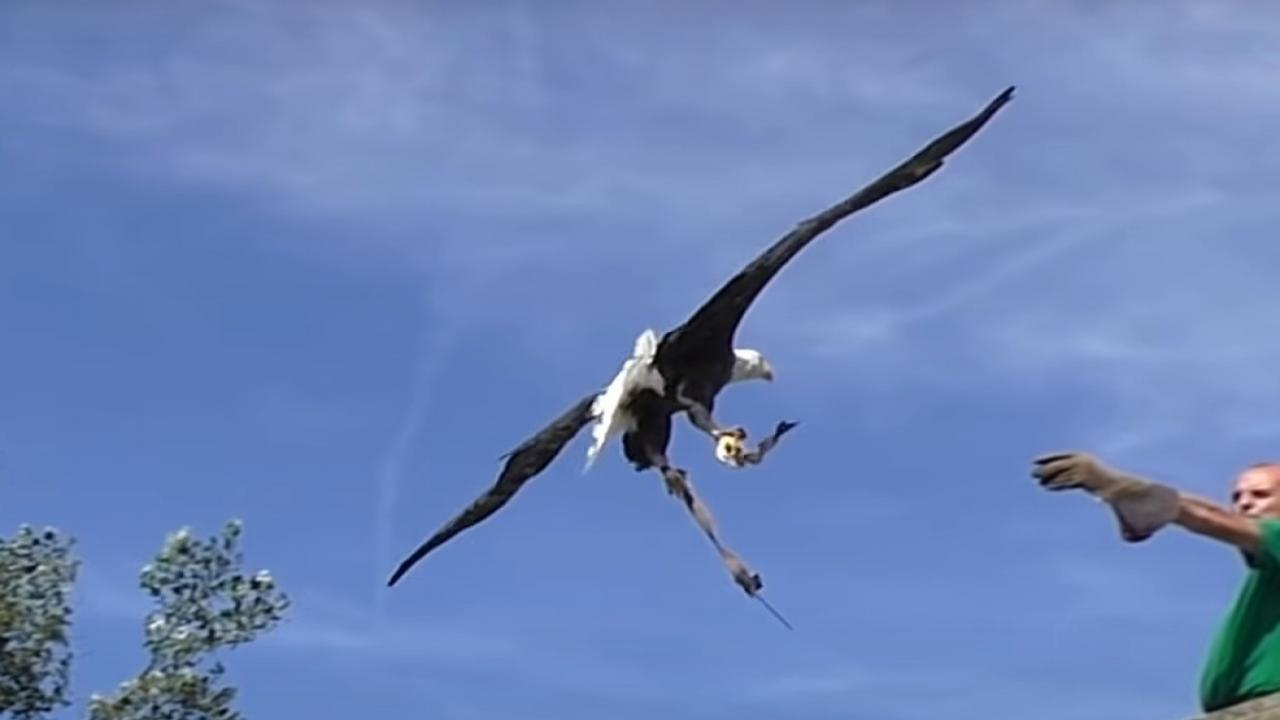Bird: (375, 85, 1031, 632)
